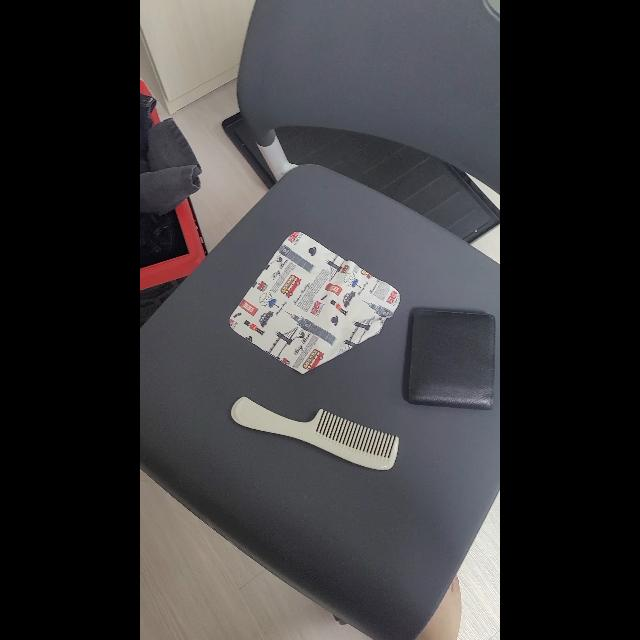COMB: (230, 396, 400, 470)
Glasses cleaning cloth: (229, 232, 401, 374)
WALLET: (407, 308, 495, 412)
